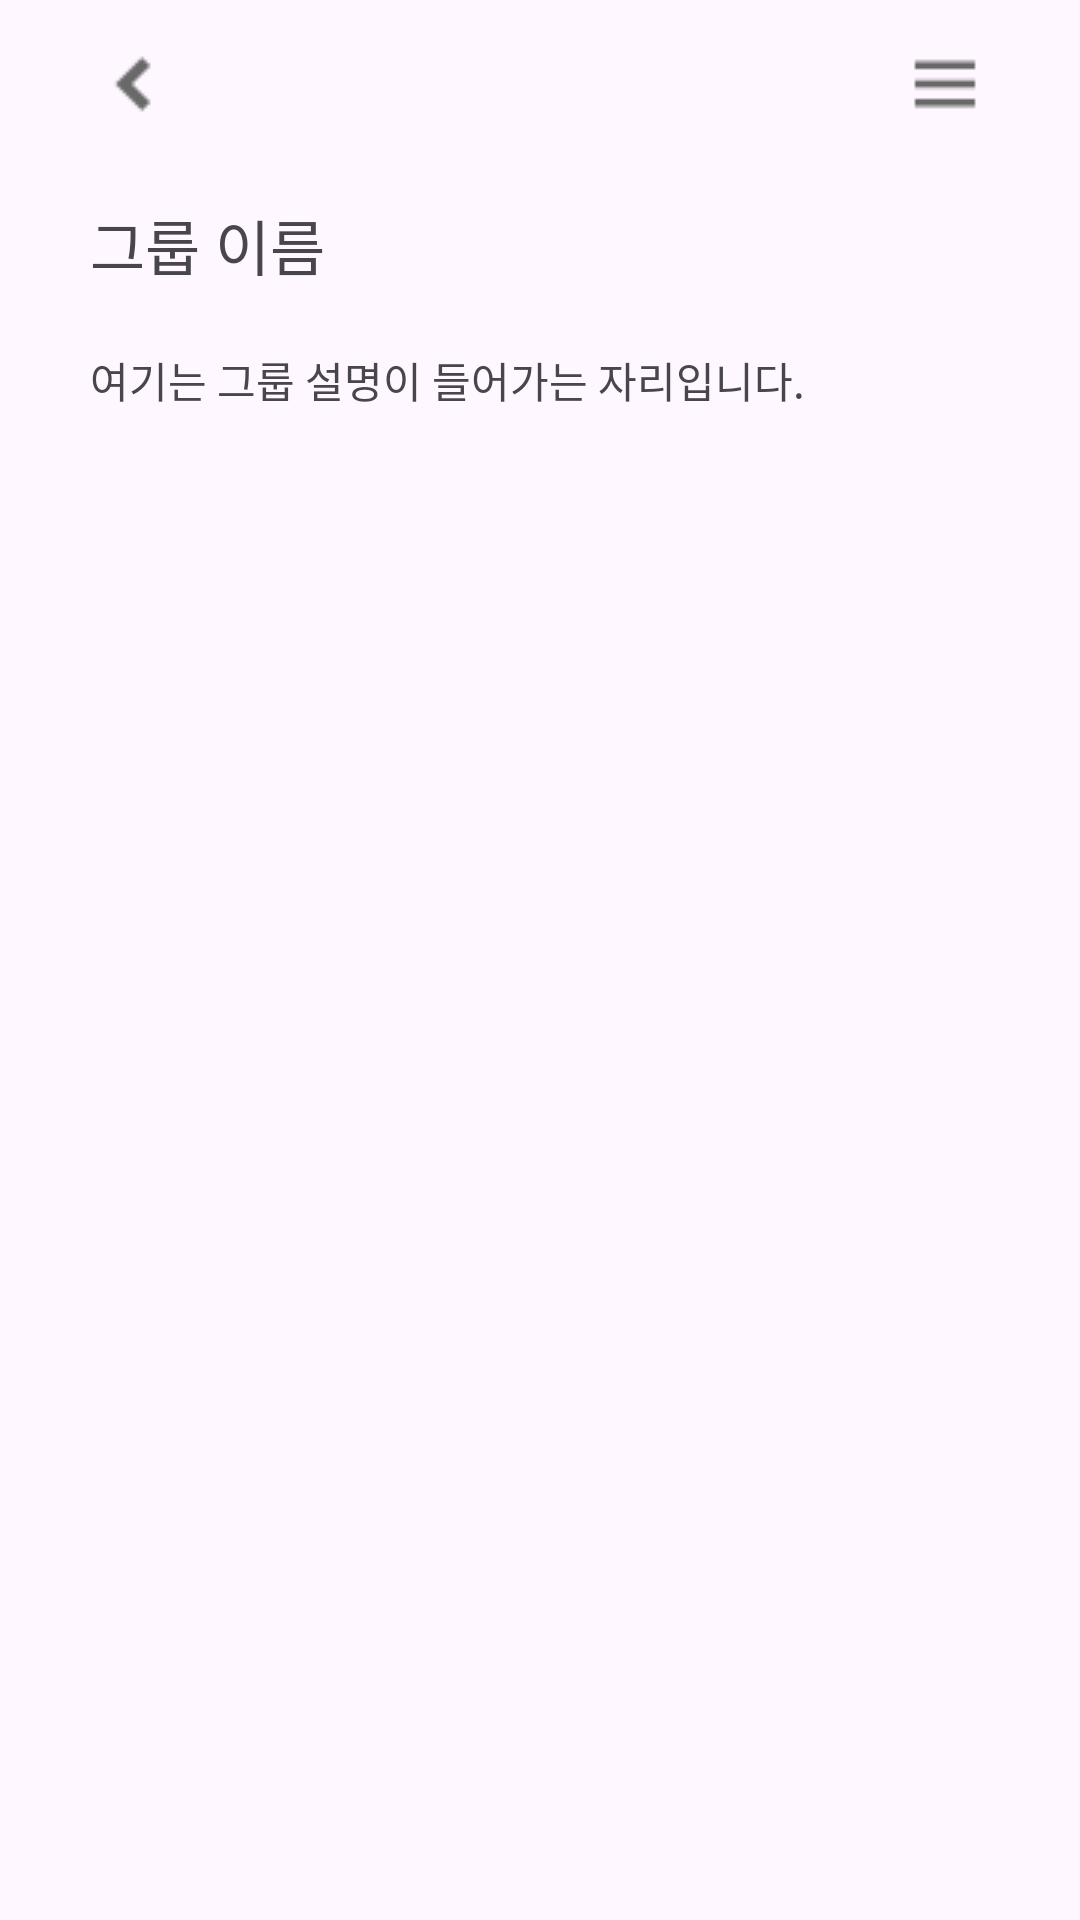

Screen size 1080 x 1920. Icon name, then its center in pixels as point (x, y):
left arrow: point (133, 84)
menu: point (945, 84)
